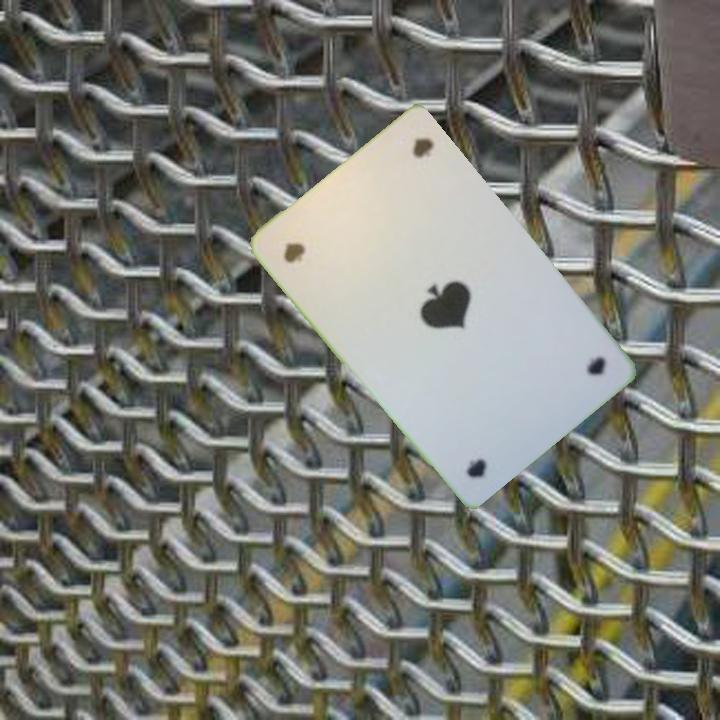s_a.png: (488, 305, 618, 432), (266, 182, 395, 309)
